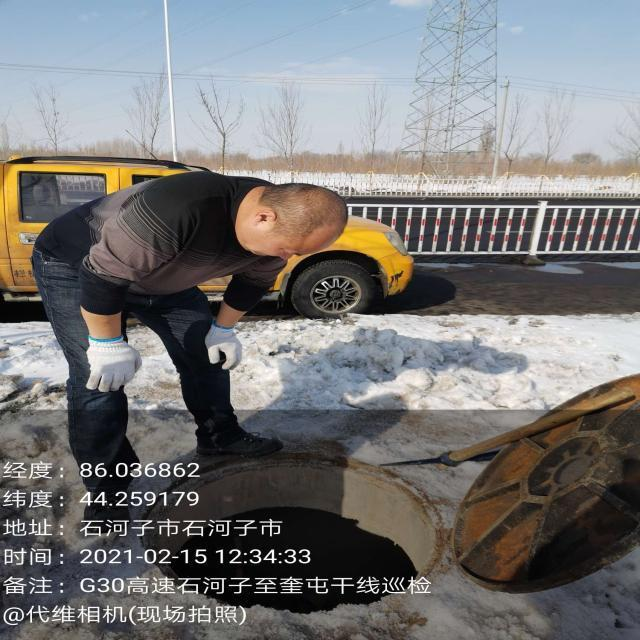manhole: (142, 460, 447, 614)
